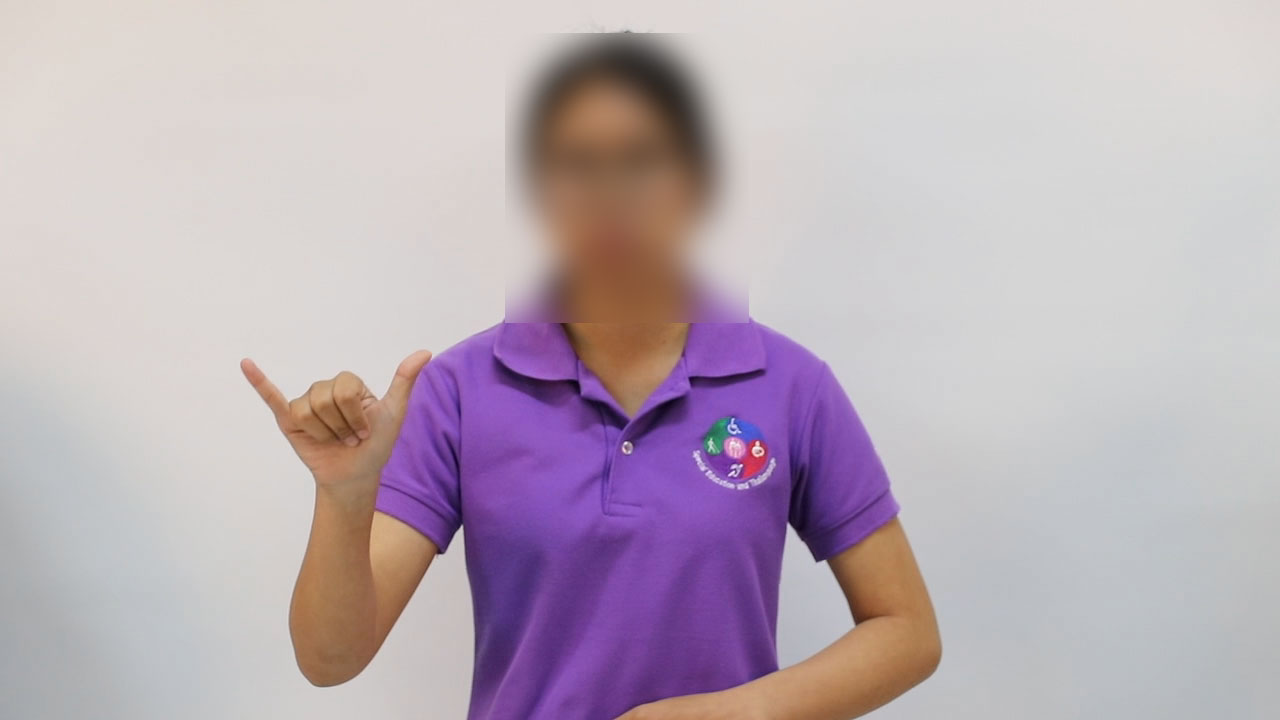yor: (226, 337, 475, 501)
